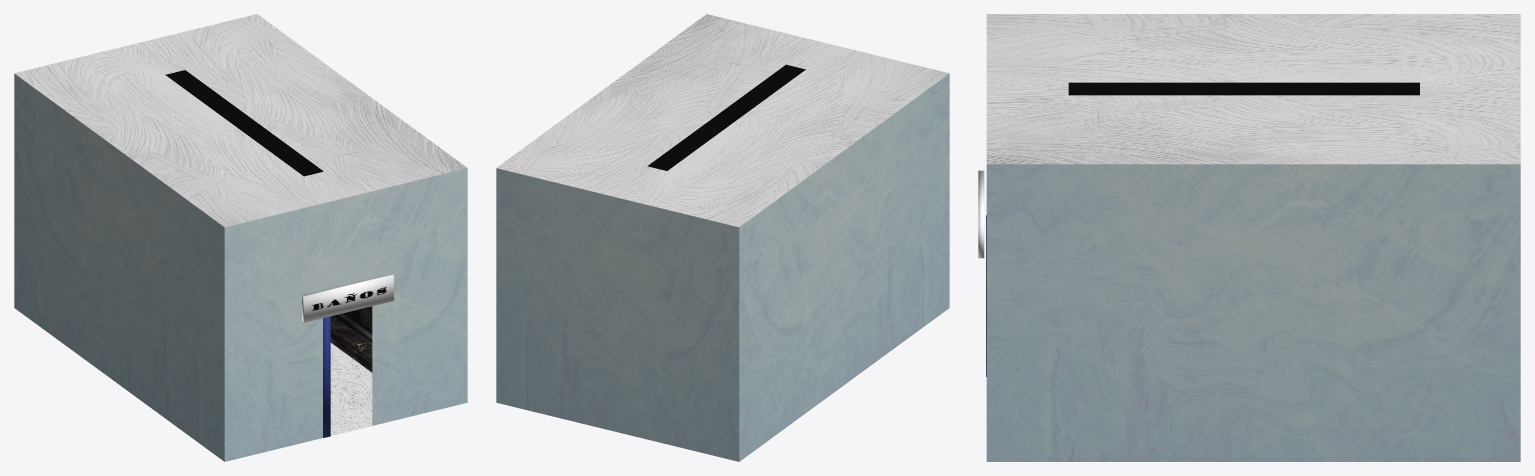
The model's file is BANOF.fbx.
3 views of the same model, side by side, from view 1: azimuth 30°, elevation 25°; view 2: azimuth 150°, elevation 25°; view 3: azimuth 270°, elevation 25° (orthographic). The views are drawn at different scales.
Parts seen in each view (by area): view 1: banoF; view 2: banoF; view 3: banoF.
Boxes of the visible parts, x1,y1,x2,y2 form: banoF: (14,14,467,461); banoF: (496,14,949,461); banoF: (978,14,1520,461).
Bounding box in the file's own units: 1732 × 1599 × 2637.
20 materials, 19 textured.
